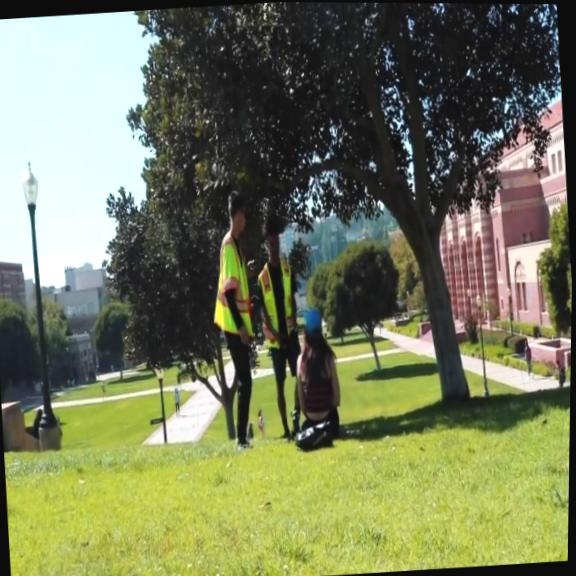safety_vest: (206, 228, 258, 342), (252, 259, 298, 352)
